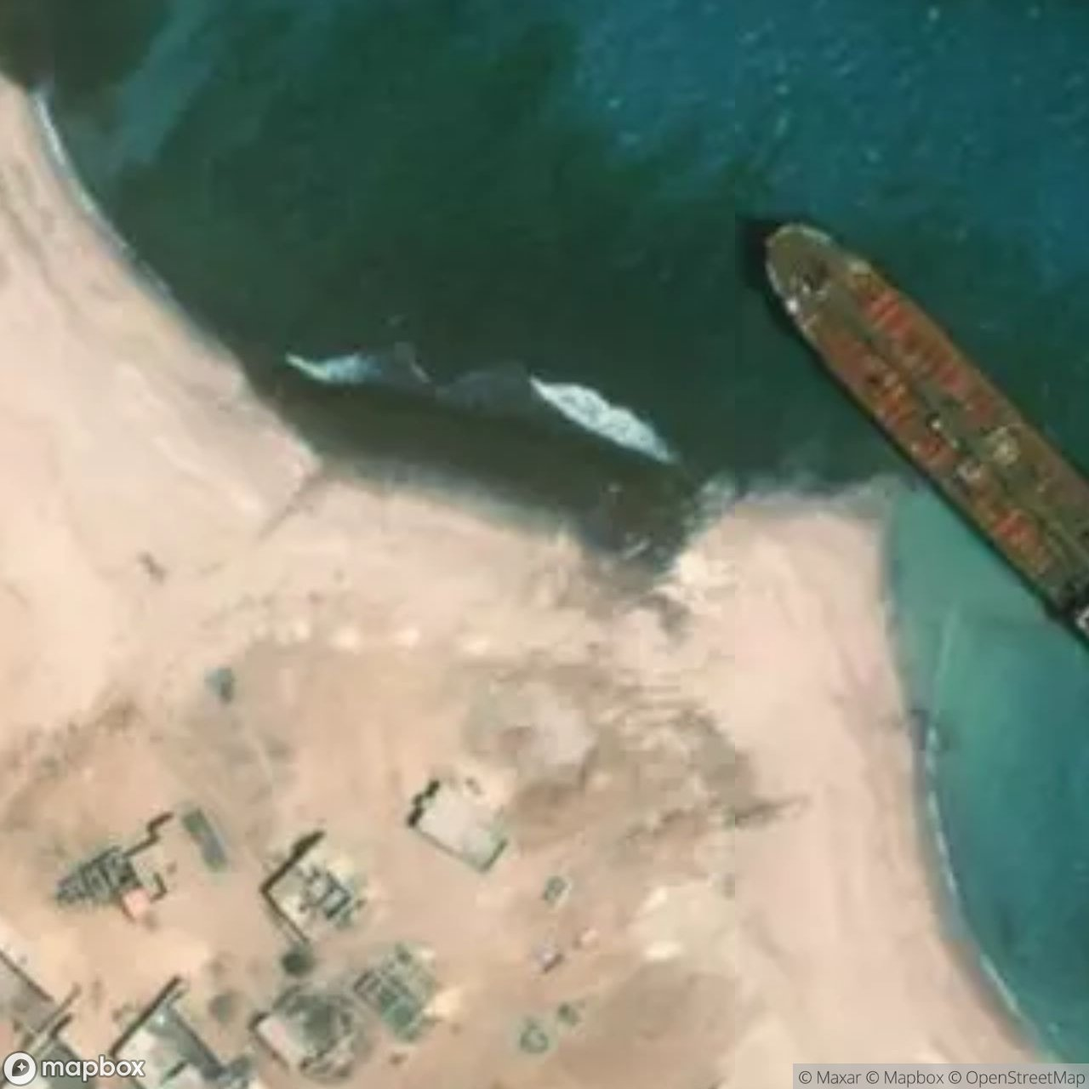Wreck: (736, 203, 1089, 641)
